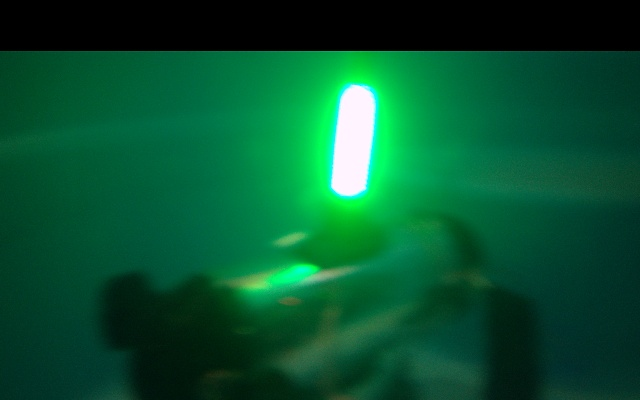green: (331, 81, 375, 214)
